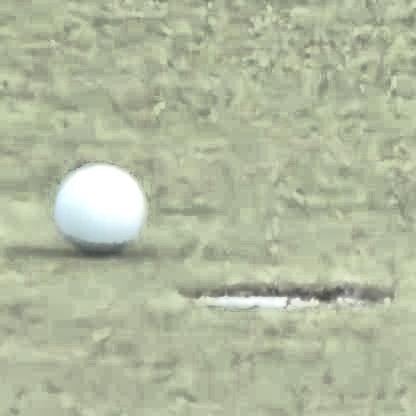golfball: (54, 155, 143, 251)
